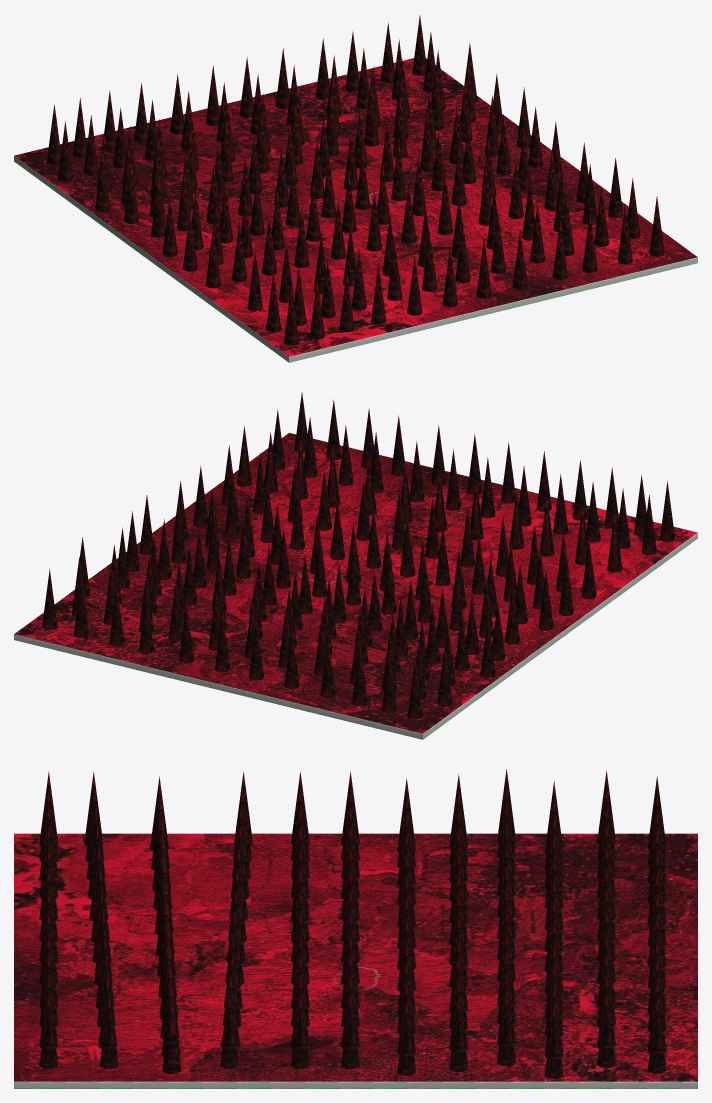
Rendered from Floor_Spikes.fbx.
3 renders of one model, top to bottom at view 1: azimuth 30°, elevation 25°; view 2: azimuth 150°, elevation 25°; view 3: azimuth 270°, elevation 25°, orthographic. The views are drawn at different scales.
Parts seen in each view (by area): view 1: Spikes, Box001; view 2: Box001, Spikes; view 3: Box001, Spikes.
Boxes of the visible parts, left/top/right/bottom form: Spikes: left=47, top=15, right=664, bottom=345; Box001: left=14, top=58, right=697, bottom=362; Box001: left=14, top=433, right=697, bottom=739; Spikes: left=42, top=392, right=674, bottom=718; Box001: left=14, top=833, right=697, bottom=1088; Spikes: left=39, top=769, right=666, bottom=1078.
Bounding box in the file's own units: 120 × 18.03 × 140.
Materials: 2 (2 with a texture image).
